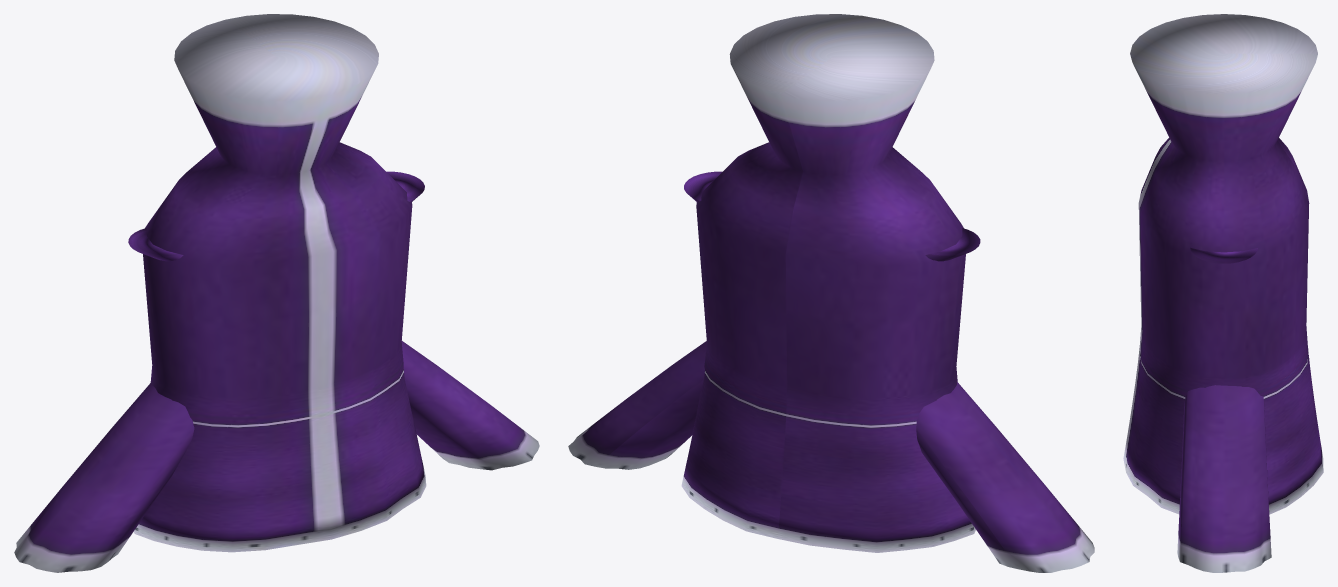
File: amethyst_jacket_chest.glb
The picture shows the model from 3 angles, left to right: view 1: azimuth 30°, elevation 25°; view 2: azimuth 150°, elevation 25°; view 3: azimuth 270°, elevation 25°; orthographic projection. The views are drawn at different scales.
Parts seen in each view (by area): view 1: amethyst_jacket_chest; view 2: amethyst_jacket_chest; view 3: amethyst_jacket_chest.
Part boxes in pixels (x1,y1,x2,y2): amethyst_jacket_chest: (14, 14, 539, 572); amethyst_jacket_chest: (568, 14, 1094, 572); amethyst_jacket_chest: (1123, 14, 1323, 572).
Size of the model in its own units: 0.55 by 0.453 by 0.2029.
Materials: 1 (1 with a texture image).
